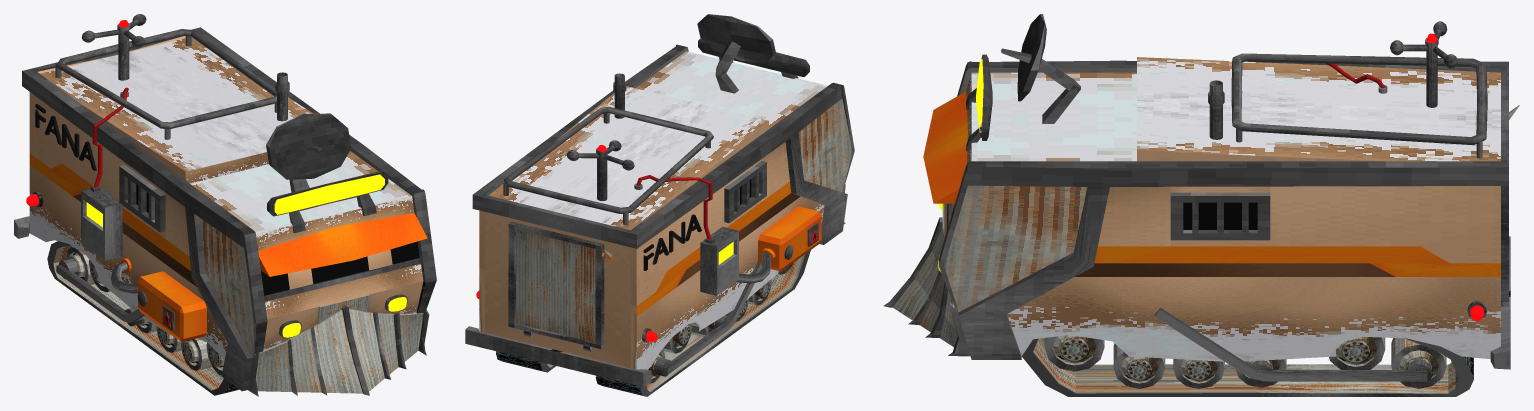
Rendered from FANACRUISER_MINI.glb.
3 renders of one model, left to right at view 1: azimuth 30°, elevation 25°; view 2: azimuth 150°, elevation 25°; view 3: azimuth 270°, elevation 25°, orthographic. The views are drawn at different scales.
Parts seen in each view (by area): view 1: ExteriorBox, BoxNStuff, Wheels, Cube, Anemometer, FanaText, Exhaust; view 2: ExteriorBox, Door, Wheels, BoxNStuff, Anemometer, FanaText, Exhaust; view 3: ExteriorBox, Wheels, Anemometer, Cube, Door, Exhaust.
Boxes of the visible parts, x1,y1,x2,y2 form: ExteriorBox: (14,27,436,396); BoxNStuff: (81,87,206,341); Wheels: (47,241,239,395); Cube: (136,184,419,295); Anemometer: (81,14,146,80); FanaText: (35,104,96,170); Exhaust: (275,72,289,121); ExteriorBox: (465,14,854,386); Door: (508,221,613,349); Wheels: (496,250,810,396); BoxNStuff: (634,175,821,295); Anemometer: (567,140,634,200); FanaText: (643,214,701,270); Exhaust: (613,73,626,118); ExteriorBox: (883,14,1510,369); Wheels: (1022,308,1473,396); Anemometer: (1390,21,1457,107); Cube: (1183,202,1257,229); Door: (1501,105,1519,306); Exhaust: (1208,80,1224,139).
Bounding box in the file's own units: 0.977 × 1.19 × 2.09.
Materials: 6 (3 with a texture image).
